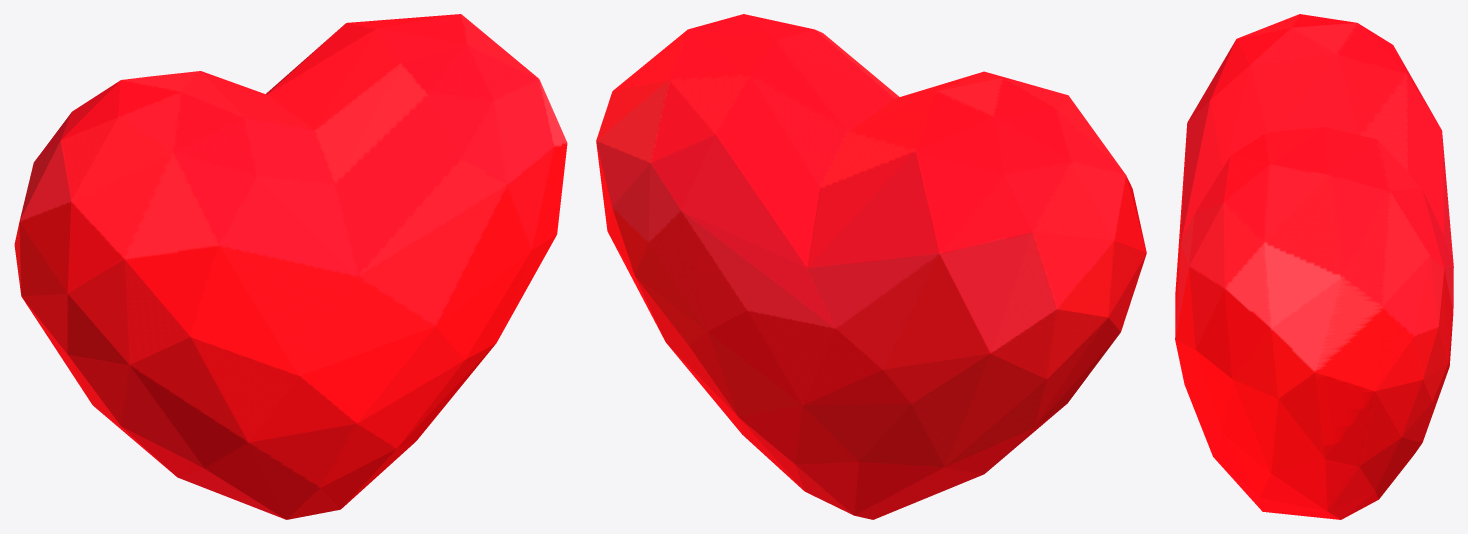
The model's file is heart.glb.
3 renders of one model, left to right at view 1: azimuth 30°, elevation 25°; view 2: azimuth 150°, elevation 25°; view 3: azimuth 270°, elevation 25°, orthographic. The views are drawn at different scales.
Visible parts, largest first — view 1: Love; view 2: Love; view 3: Love.
Boxes of the visible parts, bbox=[...] form: Love: bbox=[14, 14, 567, 519]; Love: bbox=[596, 14, 1146, 519]; Love: bbox=[1175, 14, 1453, 519].
Bounding box in the file's own units: 0.3313 × 0.2769 × 0.1632.
